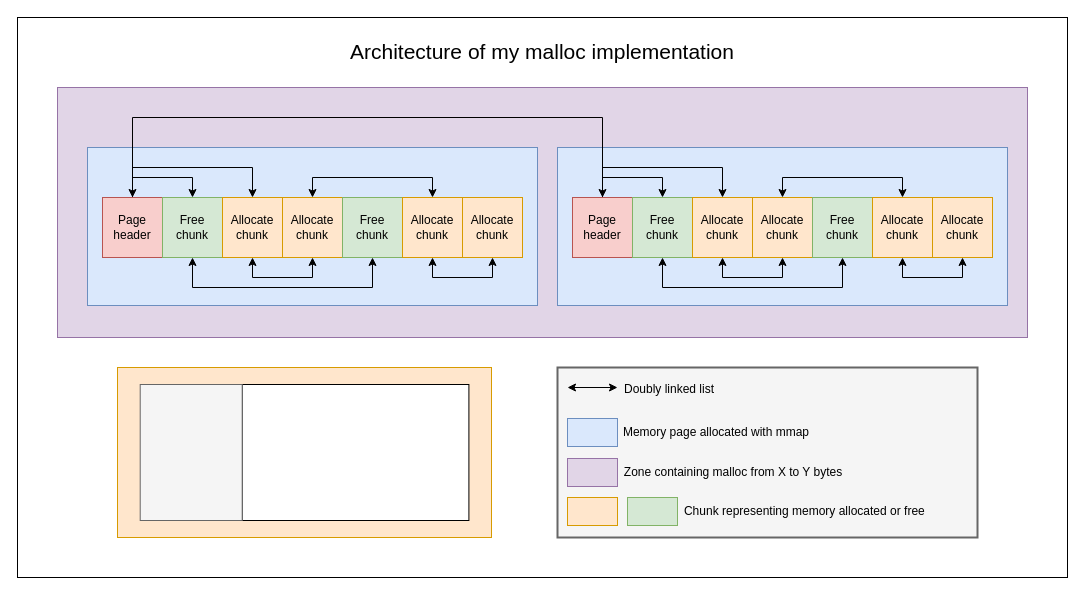
The diagram is 1085 pixels wide and 595 high, and some of its shapes have lost their labels. Here are the shapes that lost their labels. From the top down, the centre of each, then its label:
At [190,452]: "Chunk header".
At [355,452]: "Chunk data (pointer return by malloc function)".
